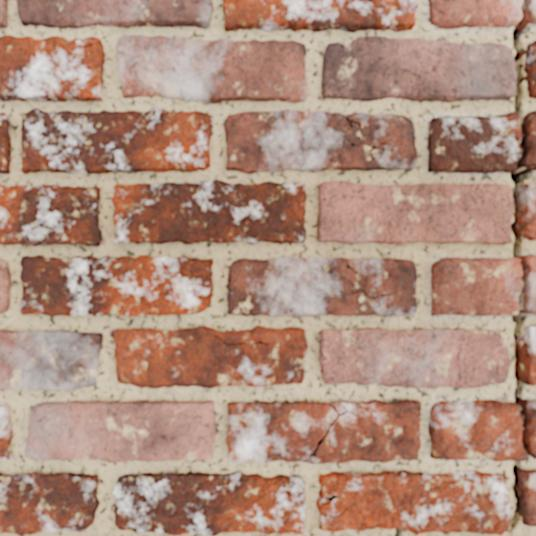brick: (117, 36, 305, 103), (322, 36, 515, 101), (317, 470, 510, 534), (21, 108, 212, 172), (113, 180, 305, 243), (225, 110, 417, 173), (317, 181, 512, 243), (114, 472, 305, 535), (227, 400, 420, 462), (113, 326, 307, 387), (20, 255, 212, 316), (25, 400, 214, 461), (319, 328, 509, 387), (227, 258, 416, 315), (0, 36, 104, 100), (0, 330, 102, 390), (0, 185, 101, 245), (224, 0, 417, 31), (0, 473, 98, 533), (17, 0, 212, 28), (520, 183, 535, 239), (521, 470, 535, 525), (523, 326, 535, 384), (0, 405, 12, 459), (524, 41, 535, 97), (0, 113, 10, 173), (0, 260, 10, 312), (0, 0, 7, 27), (332, 403, 343, 412)
broken_brick: (427, 399, 524, 462), (426, 111, 520, 173), (430, 257, 521, 316), (427, 0, 521, 29), (522, 254, 535, 314), (523, 398, 535, 459), (526, 110, 535, 170), (530, 19, 535, 24), (533, 0, 535, 12)
crack: (504, 0, 535, 534), (309, 402, 358, 458), (78, 41, 101, 48), (393, 527, 406, 535), (440, 531, 453, 535)
